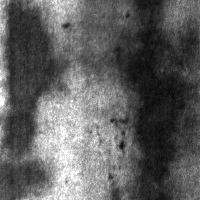patches: (118, 1, 194, 200), (3, 1, 59, 157), (57, 0, 141, 81), (1, 161, 51, 200)
